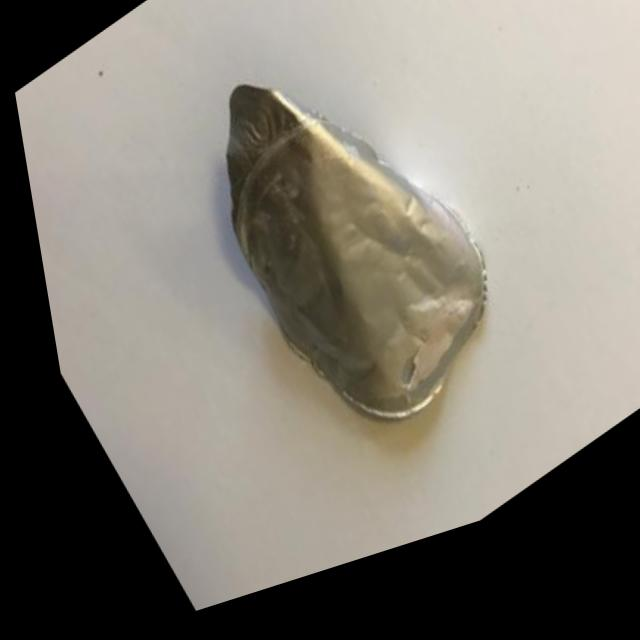trash: (69, 0, 628, 624)
